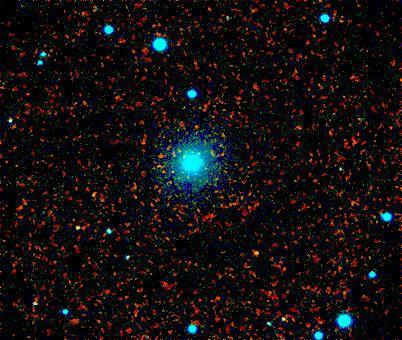star: (241, 241, 271, 271)
